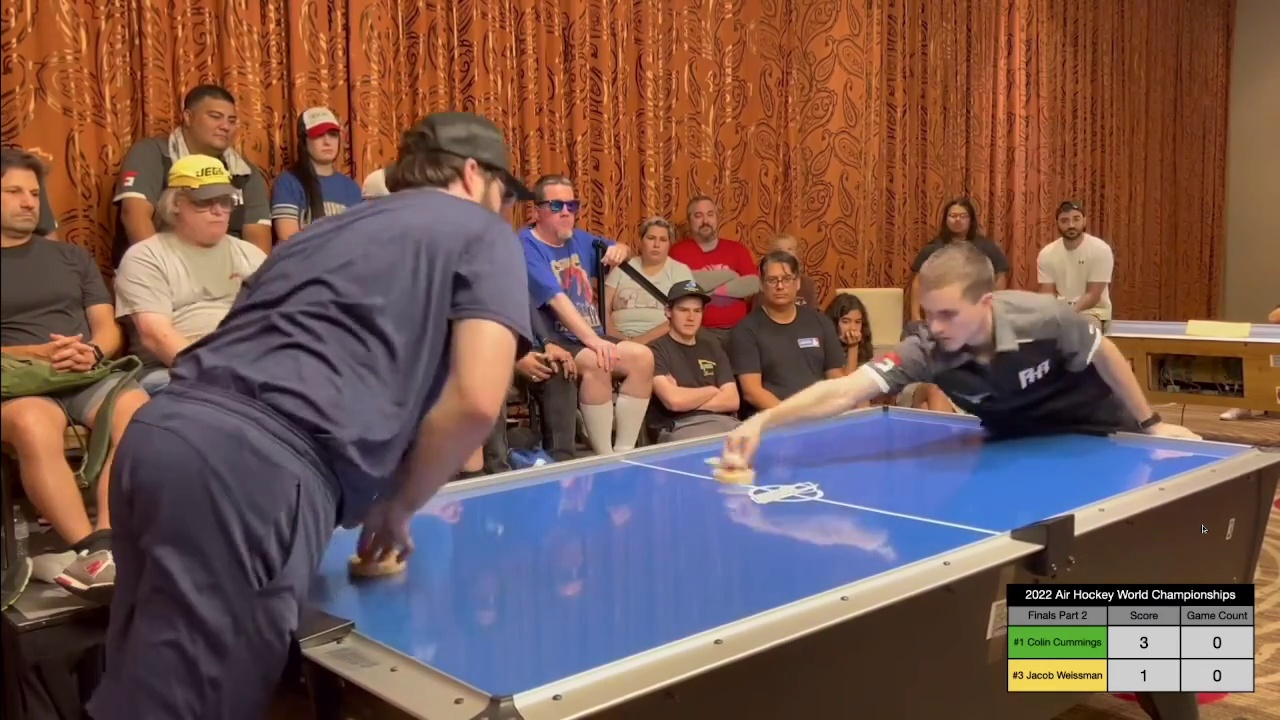player: (347, 531, 412, 574), (710, 452, 756, 485)
puck: (699, 454, 724, 467)
table: (293, 402, 1275, 697)
